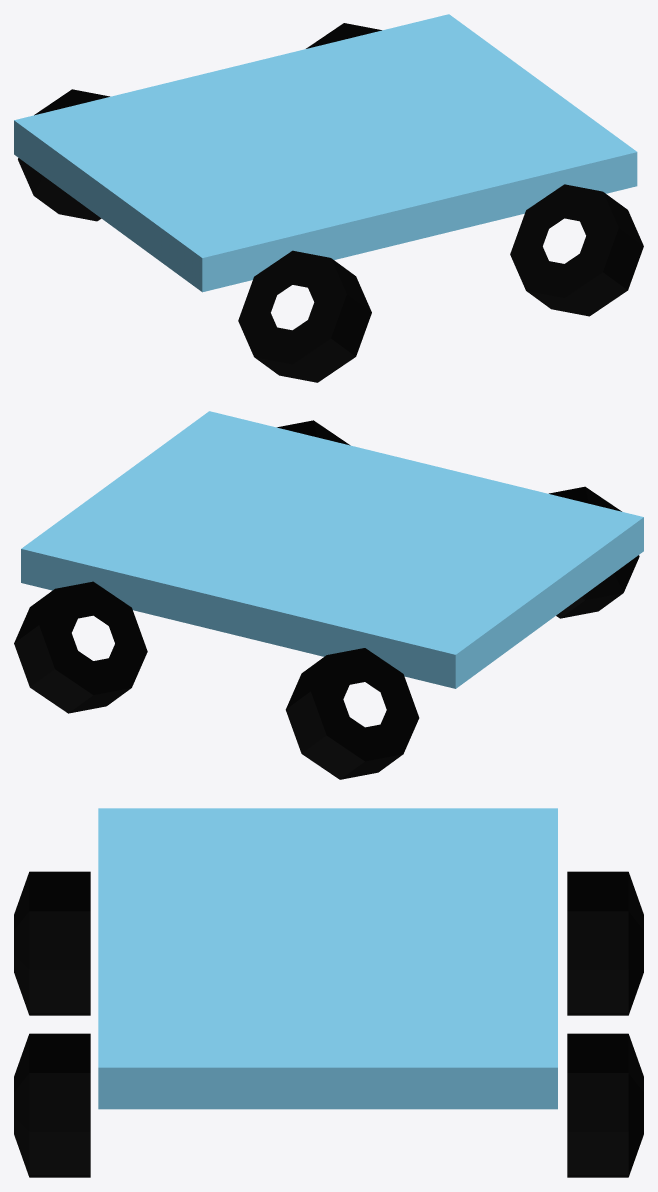
Rendered from cannon.glb.
3 views of the same model, one above another, from view 1: azimuth 30°, elevation 25°; view 2: azimuth 150°, elevation 25°; view 3: azimuth 270°, elevation 25° (orthographic). The views are drawn at different scales.
Parts seen in each view (by area): view 1: Cannon, Back Left Wheel, Front Left Wheel, Front Right Wheel, Back Right Wheel; view 2: Cannon, Front Right Wheel, Back Right Wheel, Front Left Wheel, Back Left Wheel; view 3: Cannon, Back Left Wheel, Back Right Wheel, Front Right Wheel, Front Left Wheel.
Part boxes in pixels (<box>): Cannon: <box>14,14,637,292</box>; Back Left Wheel: <box>510,184,643,316</box>; Front Left Wheel: <box>238,250,371,382</box>; Front Right Wheel: <box>18,89,109,221</box>; Back Right Wheel: <box>306,23,381,48</box>; Cannon: <box>21,411,643,688</box>; Front Right Wheel: <box>285,648,419,779</box>; Back Right Wheel: <box>14,581,147,713</box>; Front Left Wheel: <box>549,486,639,618</box>; Back Left Wheel: <box>277,420,350,445</box>; Cannon: <box>98,808,557,1109</box>; Back Left Wheel: <box>14,1033,90,1177</box>; Back Right Wheel: <box>567,1033,643,1177</box>; Front Right Wheel: <box>567,871,643,1015</box>; Front Left Wheel: <box>14,871,90,1015</box>.
Bounding box in the file's own units: 4 × 1.1 × 4.11.
